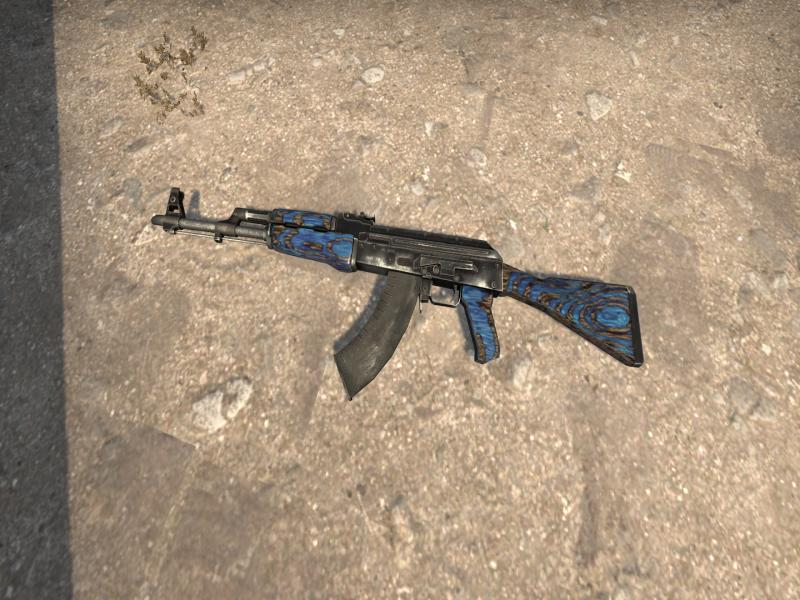AK47: (151, 187, 645, 398)
